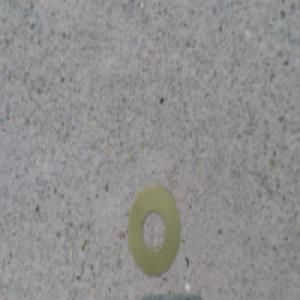Washer: (127, 183, 181, 276)
